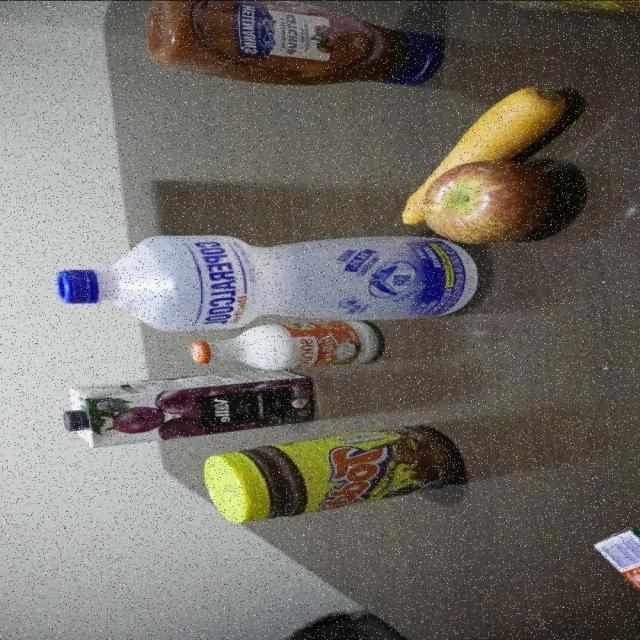AlcoholBottle: (52, 232, 486, 333)
Apple: (424, 158, 561, 245)
Carrot: (462, 84, 572, 158)
ChocolatePowder: (203, 423, 463, 524)
CoconutMilk: (188, 318, 383, 370)
Ketchup: (143, 1, 443, 90)
